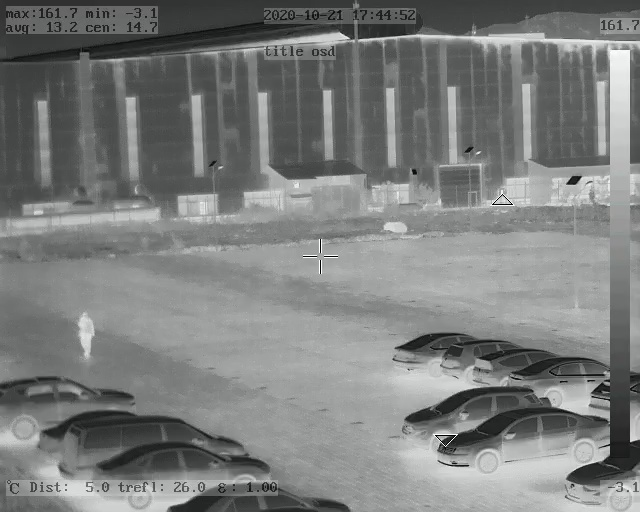person: (74, 308, 96, 360)
vehicle: (92, 445, 273, 508), (58, 421, 251, 476), (442, 409, 606, 471), (1, 376, 131, 435), (402, 389, 518, 443), (507, 355, 610, 404), (565, 442, 639, 508), (391, 327, 458, 371), (466, 346, 535, 385), (440, 337, 504, 379)
